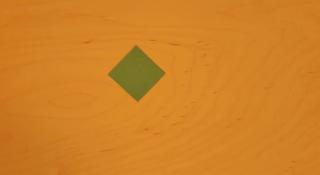Square: (107, 45, 166, 102)
